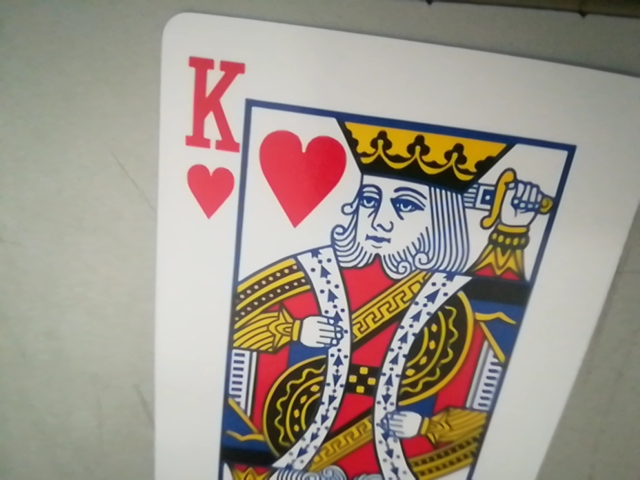hx k: (177, 55, 242, 224)
